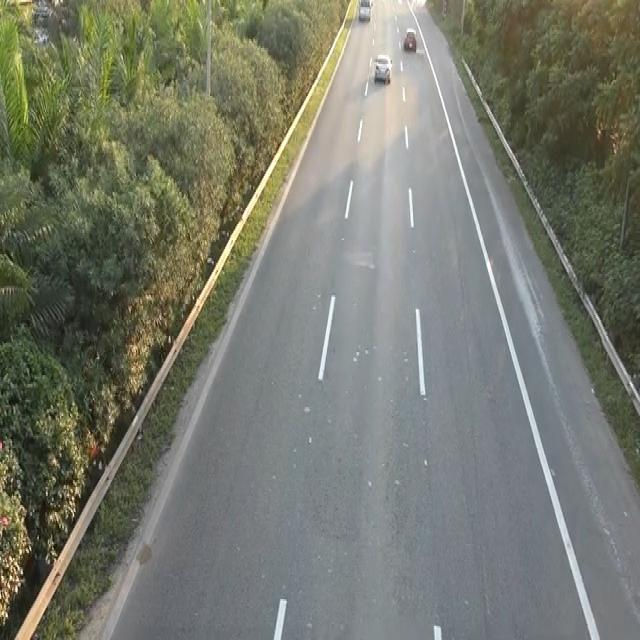bus: (370, 50, 396, 90), (402, 25, 417, 51)
jeep: (357, 0, 372, 21)
